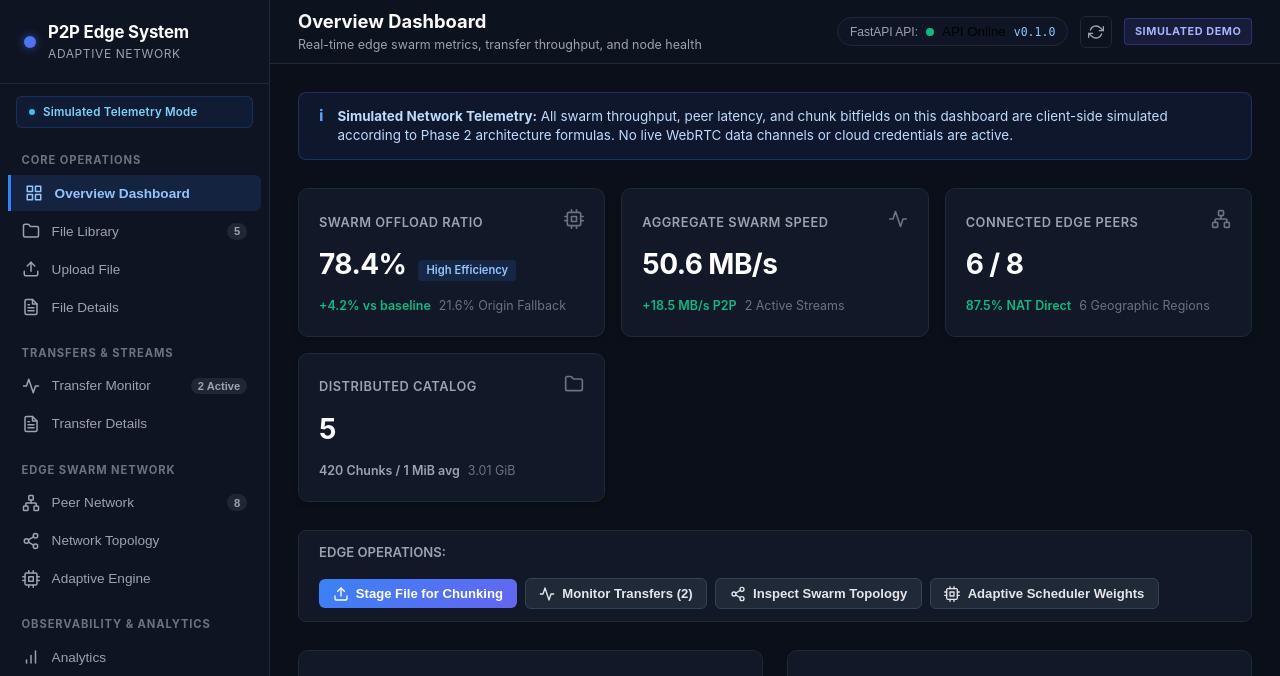
Intelligent P2P Edge Frontend - Phase 3 Navigation & UI › navigates to Adaptive Scheduling Engine and verifies formula
The image size is (1280, 676).
What coordinates should you click on to do the following:
click the button "Adaptive Engine"
I would click on:
 (134, 579)
Its box is [8, 561, 261, 596].
(page scrolled)
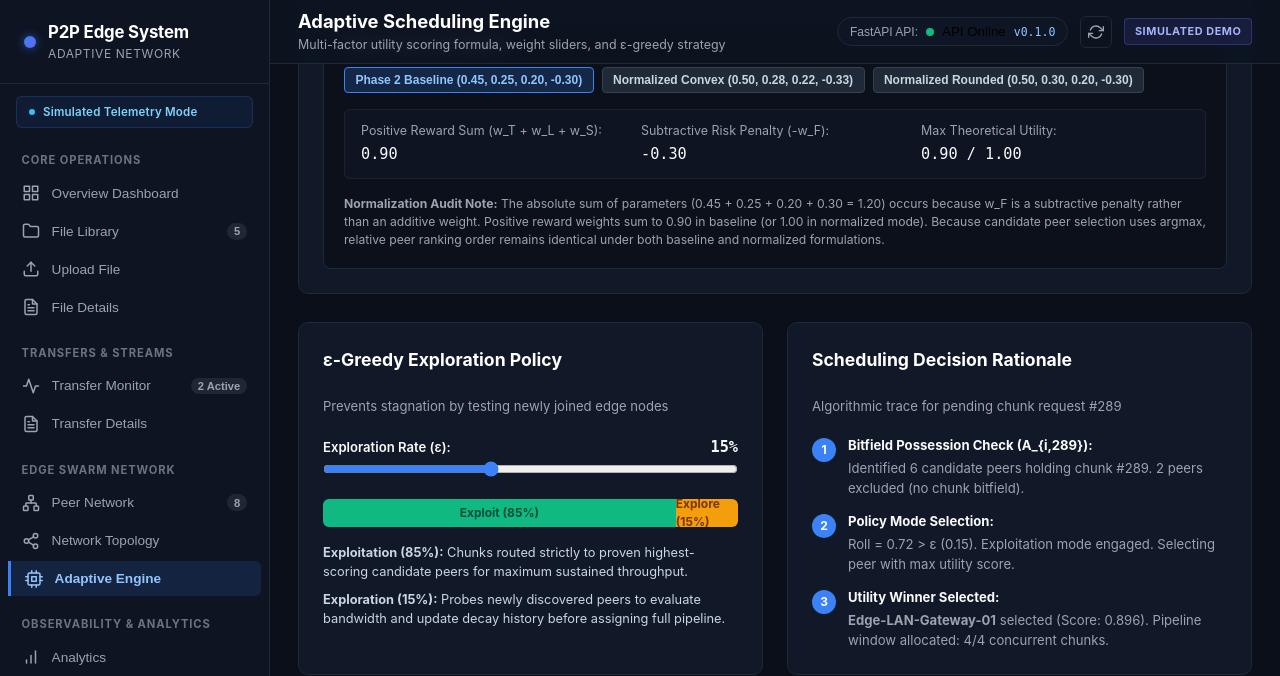
expect the heading "ε-Greedy Exploration Policy" is shown: met, box [323, 349, 562, 370]
